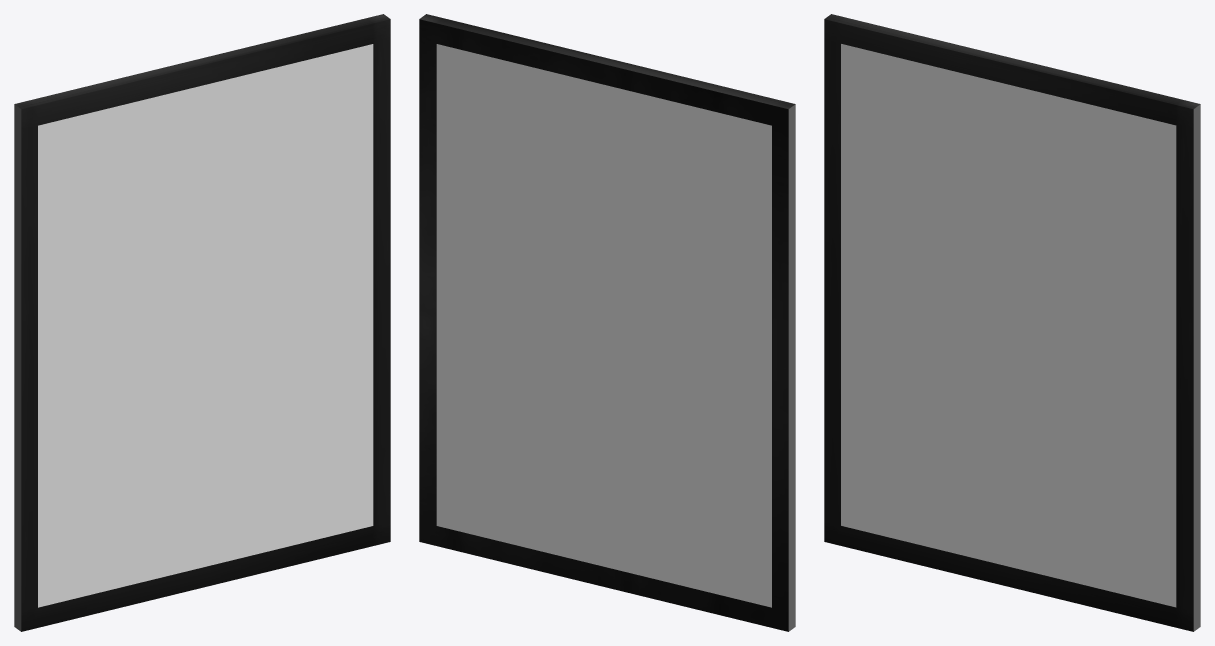
Rendered from puertados.obj.
3 views of the same model, side by side, from view 1: azimuth 30°, elevation 25°; view 2: azimuth 150°, elevation 25°; view 3: azimuth 330°, elevation 25° (orthographic).
Parts seen in each view (by area): view 1: pasted__FachadaFinal_pCube7; view 2: pasted__FachadaFinal_pCube7; view 3: pasted__FachadaFinal_pCube7.
Boxes of the visible parts, x1=… form: pasted__FachadaFinal_pCube7: x1=14, y1=14, x2=390, y2=631; pasted__FachadaFinal_pCube7: x1=419, y1=14, x2=795, y2=631; pasted__FachadaFinal_pCube7: x1=824, y1=14, x2=1200, y2=631.
Size of the model in its own units: 2.41 by 3.26 by 0.08.
Materials: 4 (3 with a texture image).
